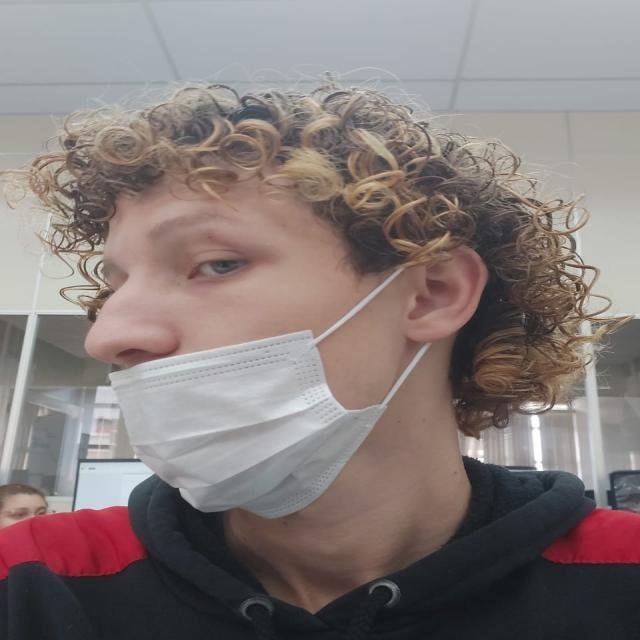hairnet: (81, 194, 391, 489)
